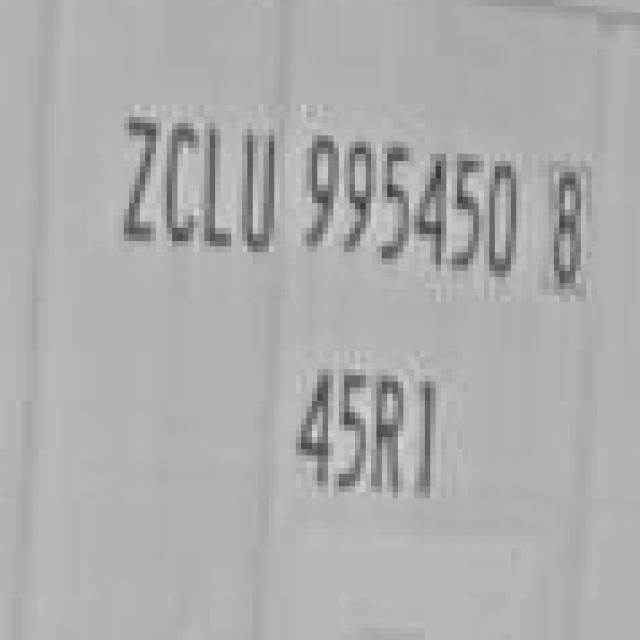dv: (533, 144, 607, 306)
owner: (116, 94, 286, 266)
serial: (299, 110, 525, 297)
size: (290, 356, 453, 520)
